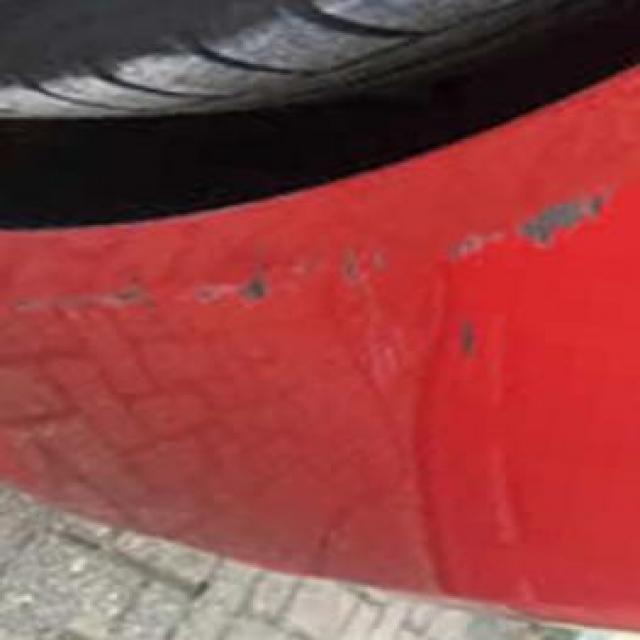scratch: (6, 170, 615, 375)
